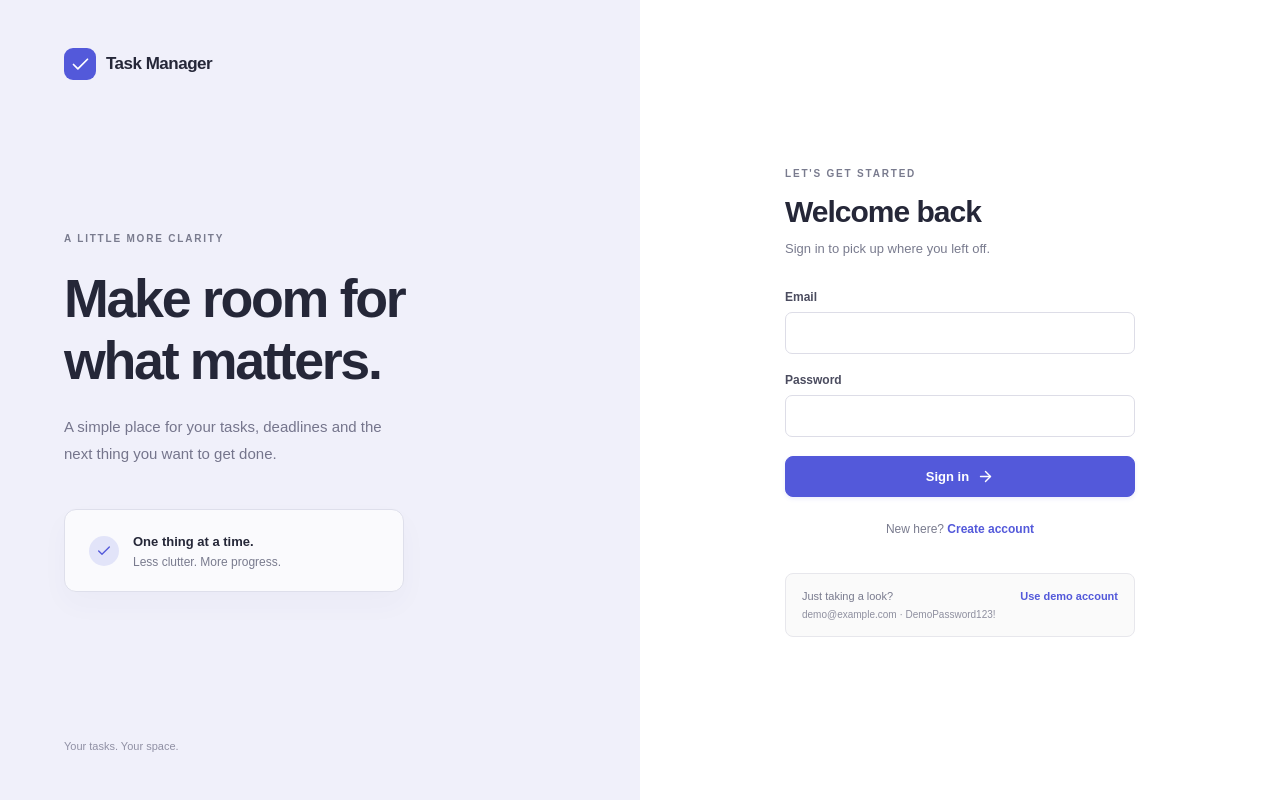
Scenario: Application flows › pages through more than fifty tasks without displaying the lookahead row
What coordinates should you click on to do the following:
click the button "Use demo account"
I would click on:
 (1069, 596)
Its box is [1020,590,1118,602].
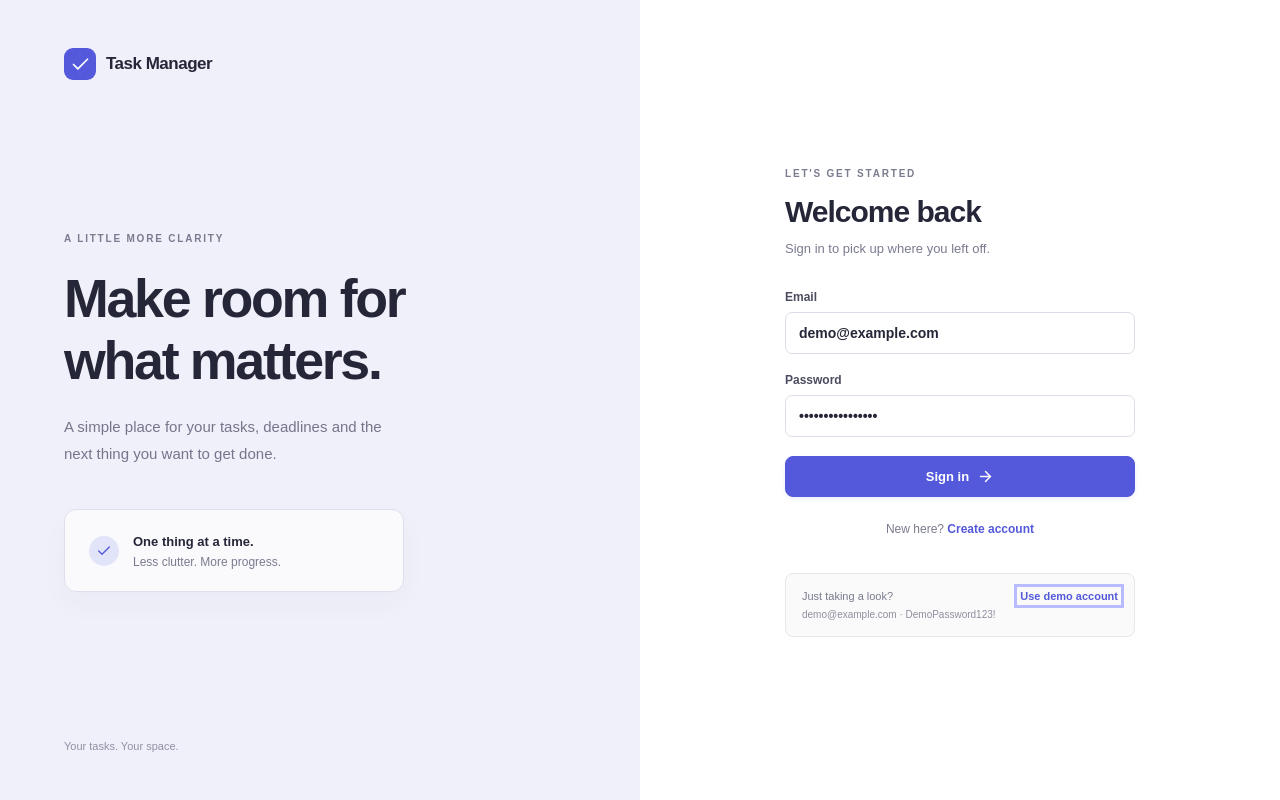
What coordinates should you click on to do the following:
click the button "Sign in"
I would click on:
 (960, 476)
Its box is [785,456,1135,497].
(page scrolled)
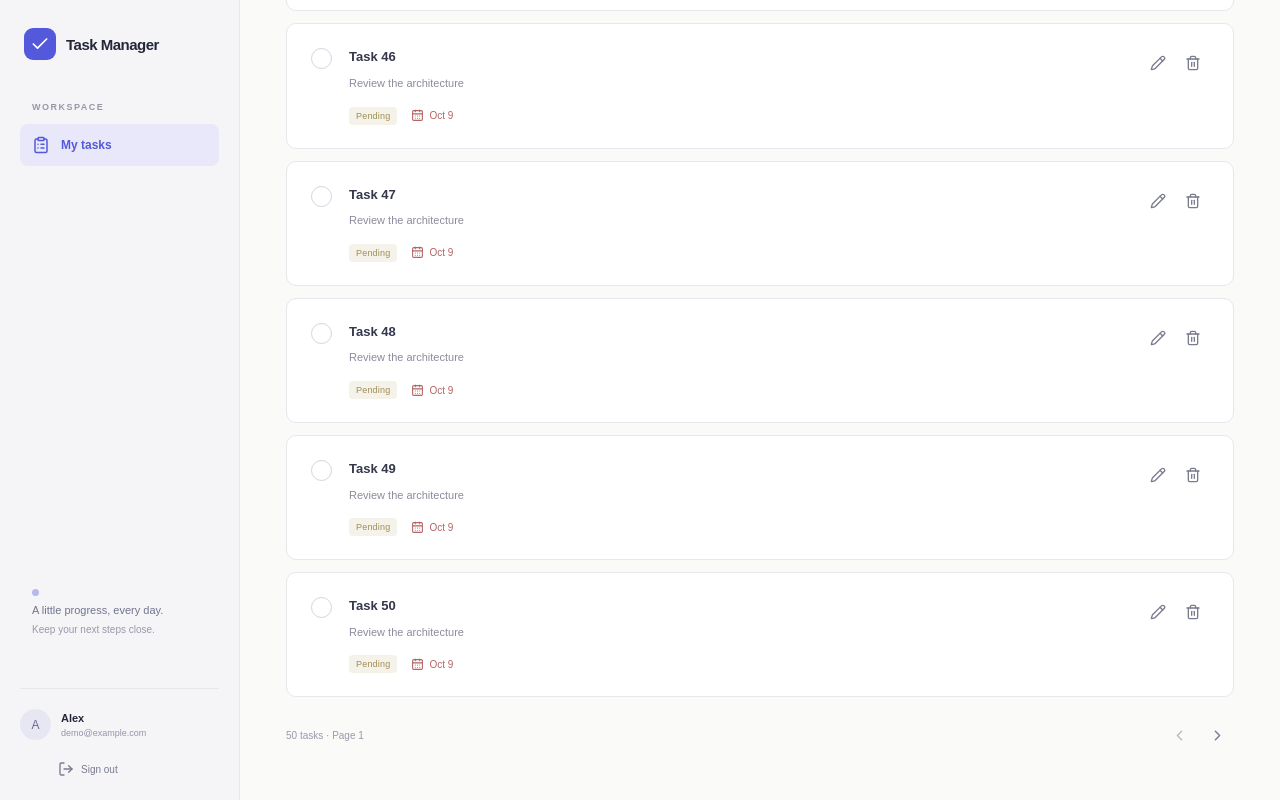
Expected: the button "Task 51" is not shown
Now the text "50 tasks · Page 1" is shown, box [286,730,364,741]
What coordinates should you click on to do the following:
click the button named "Next page"
I would click on:
 (1218, 736)
Its box is [1201,719,1234,752].
(page scrolled)
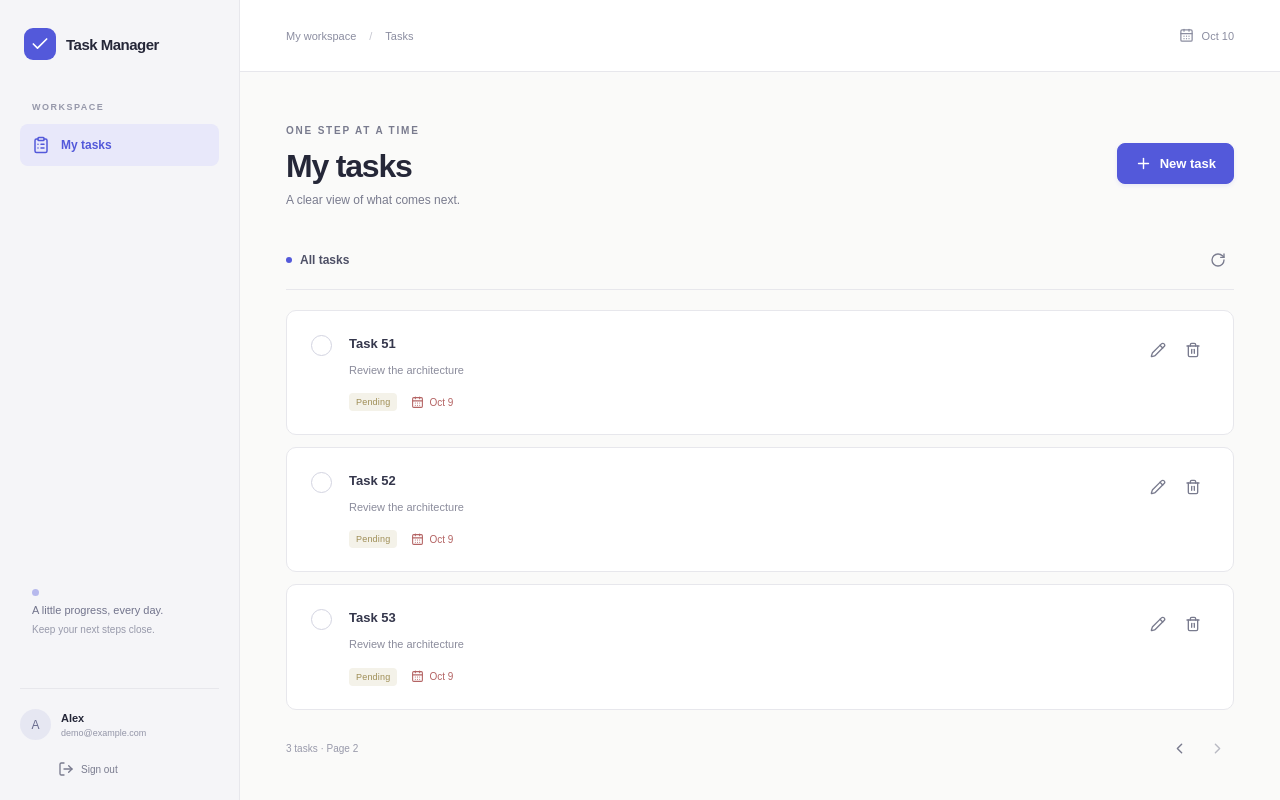
Now the button "Task 51" is shown, box [349,334,396,354]
Now the text "3 tasks · Page 2" is shown, box [286,743,358,754]
Now the button "Task 53" is shown, box [349,608,396,628]
What coordinates should you click on to do the following:
click the button named "Previous page"
I would click on:
 (1180, 748)
Its box is [1163,732,1196,765].
(page scrolled)
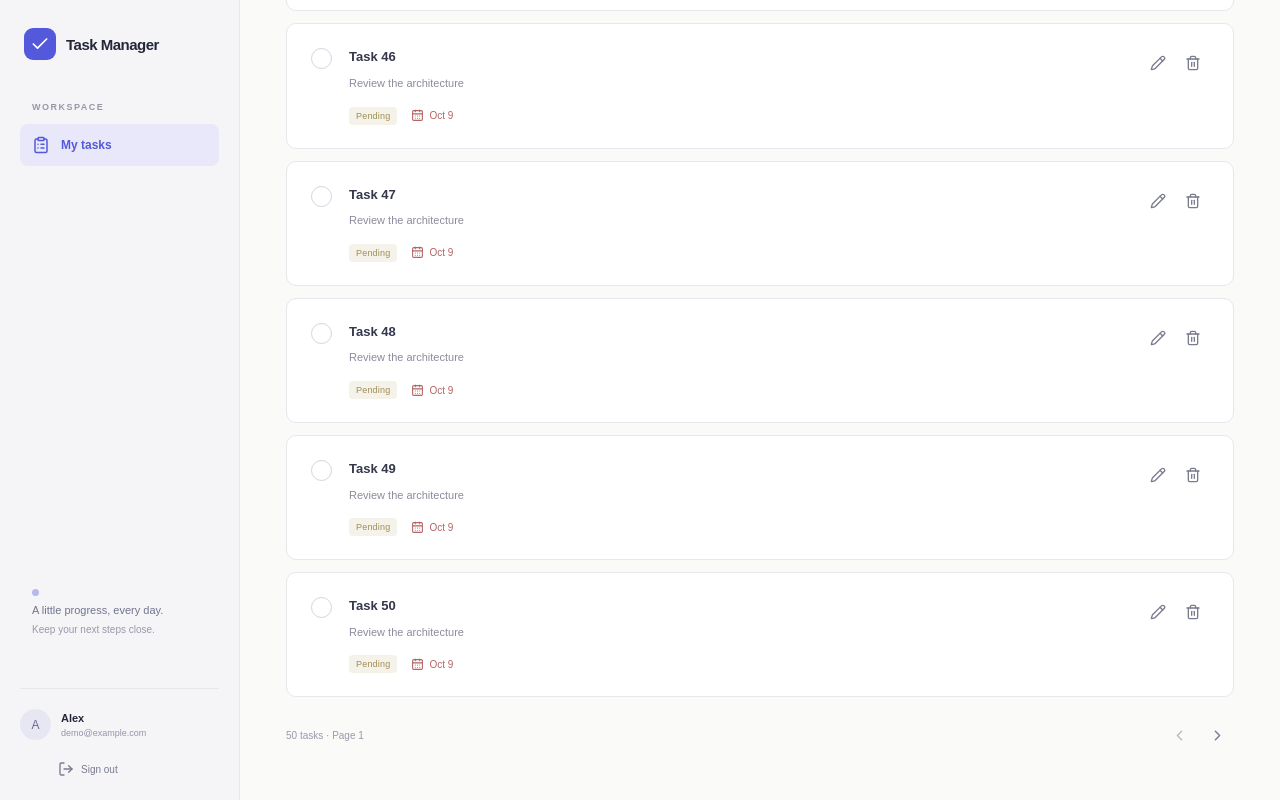
Now the text "50 tasks · Page 1" is shown, box [286,730,364,741]
